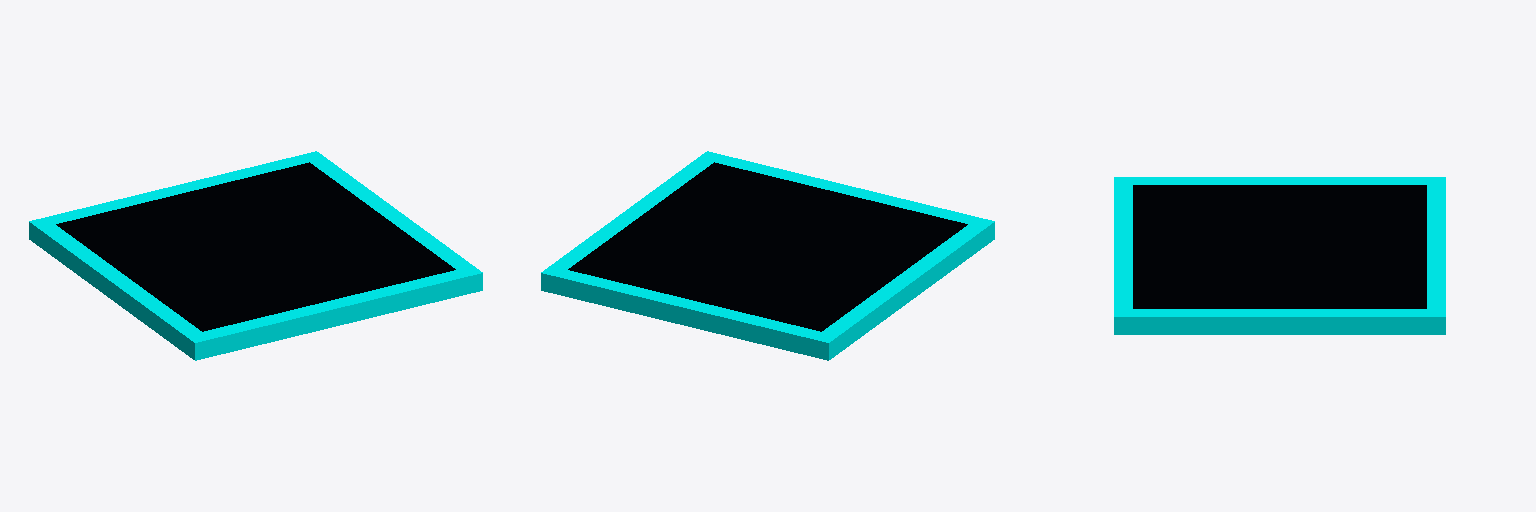
Rendered from Platform.obj.
3 views of the same model, side by side, from view 1: azimuth 30°, elevation 25°; view 2: azimuth 150°, elevation 25°; view 3: azimuth 270°, elevation 25° (orthographic).
Parts seen in each view (by area): view 1: Part5, Part2, Part1, Part3, Part4; view 2: Part5, Part3, Part1, Part2, Part4; view 3: Part5, Part4, Part3, Part2, Part1.
Boxes of the visible parts, x1,y1,x2,y2 form: Part5: [56, 162, 455, 331]; Part2: [185, 266, 482, 360]; Part1: [29, 217, 201, 352]; Part3: [31, 151, 325, 226]; Part4: [310, 158, 482, 294]; Part5: [568, 162, 967, 331]; Part3: [541, 266, 838, 359]; Part1: [812, 224, 985, 360]; Part2: [698, 151, 994, 245]; Part4: [551, 158, 713, 269]; Part5: [1133, 185, 1426, 308]; Part4: [1114, 309, 1426, 334]; Part3: [1427, 185, 1445, 334]; Part2: [1114, 177, 1132, 334]; Part1: [1133, 177, 1445, 184].
Size of the model in its own units: 17 by 1 by 17.